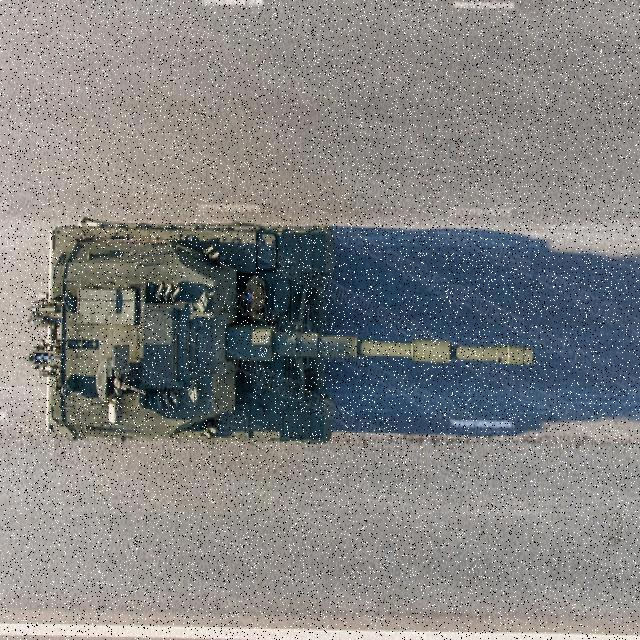MIL_MBT: (28, 222, 538, 444)
